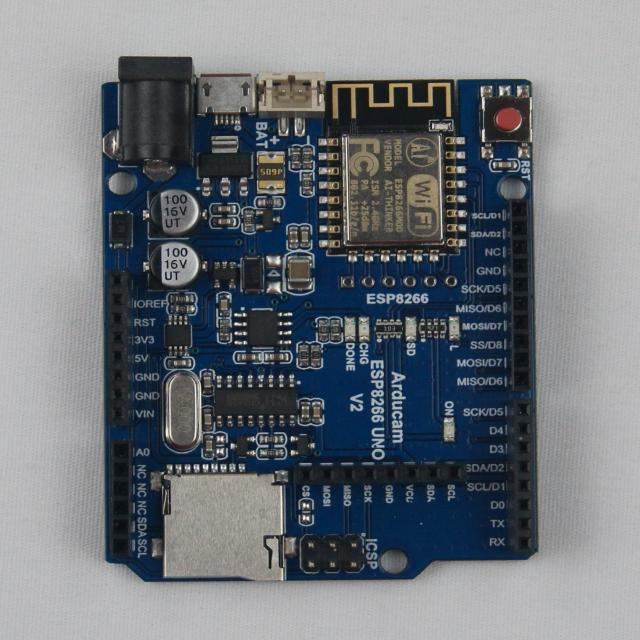Arduino Uno Camera Shield: (102, 58, 538, 582)
